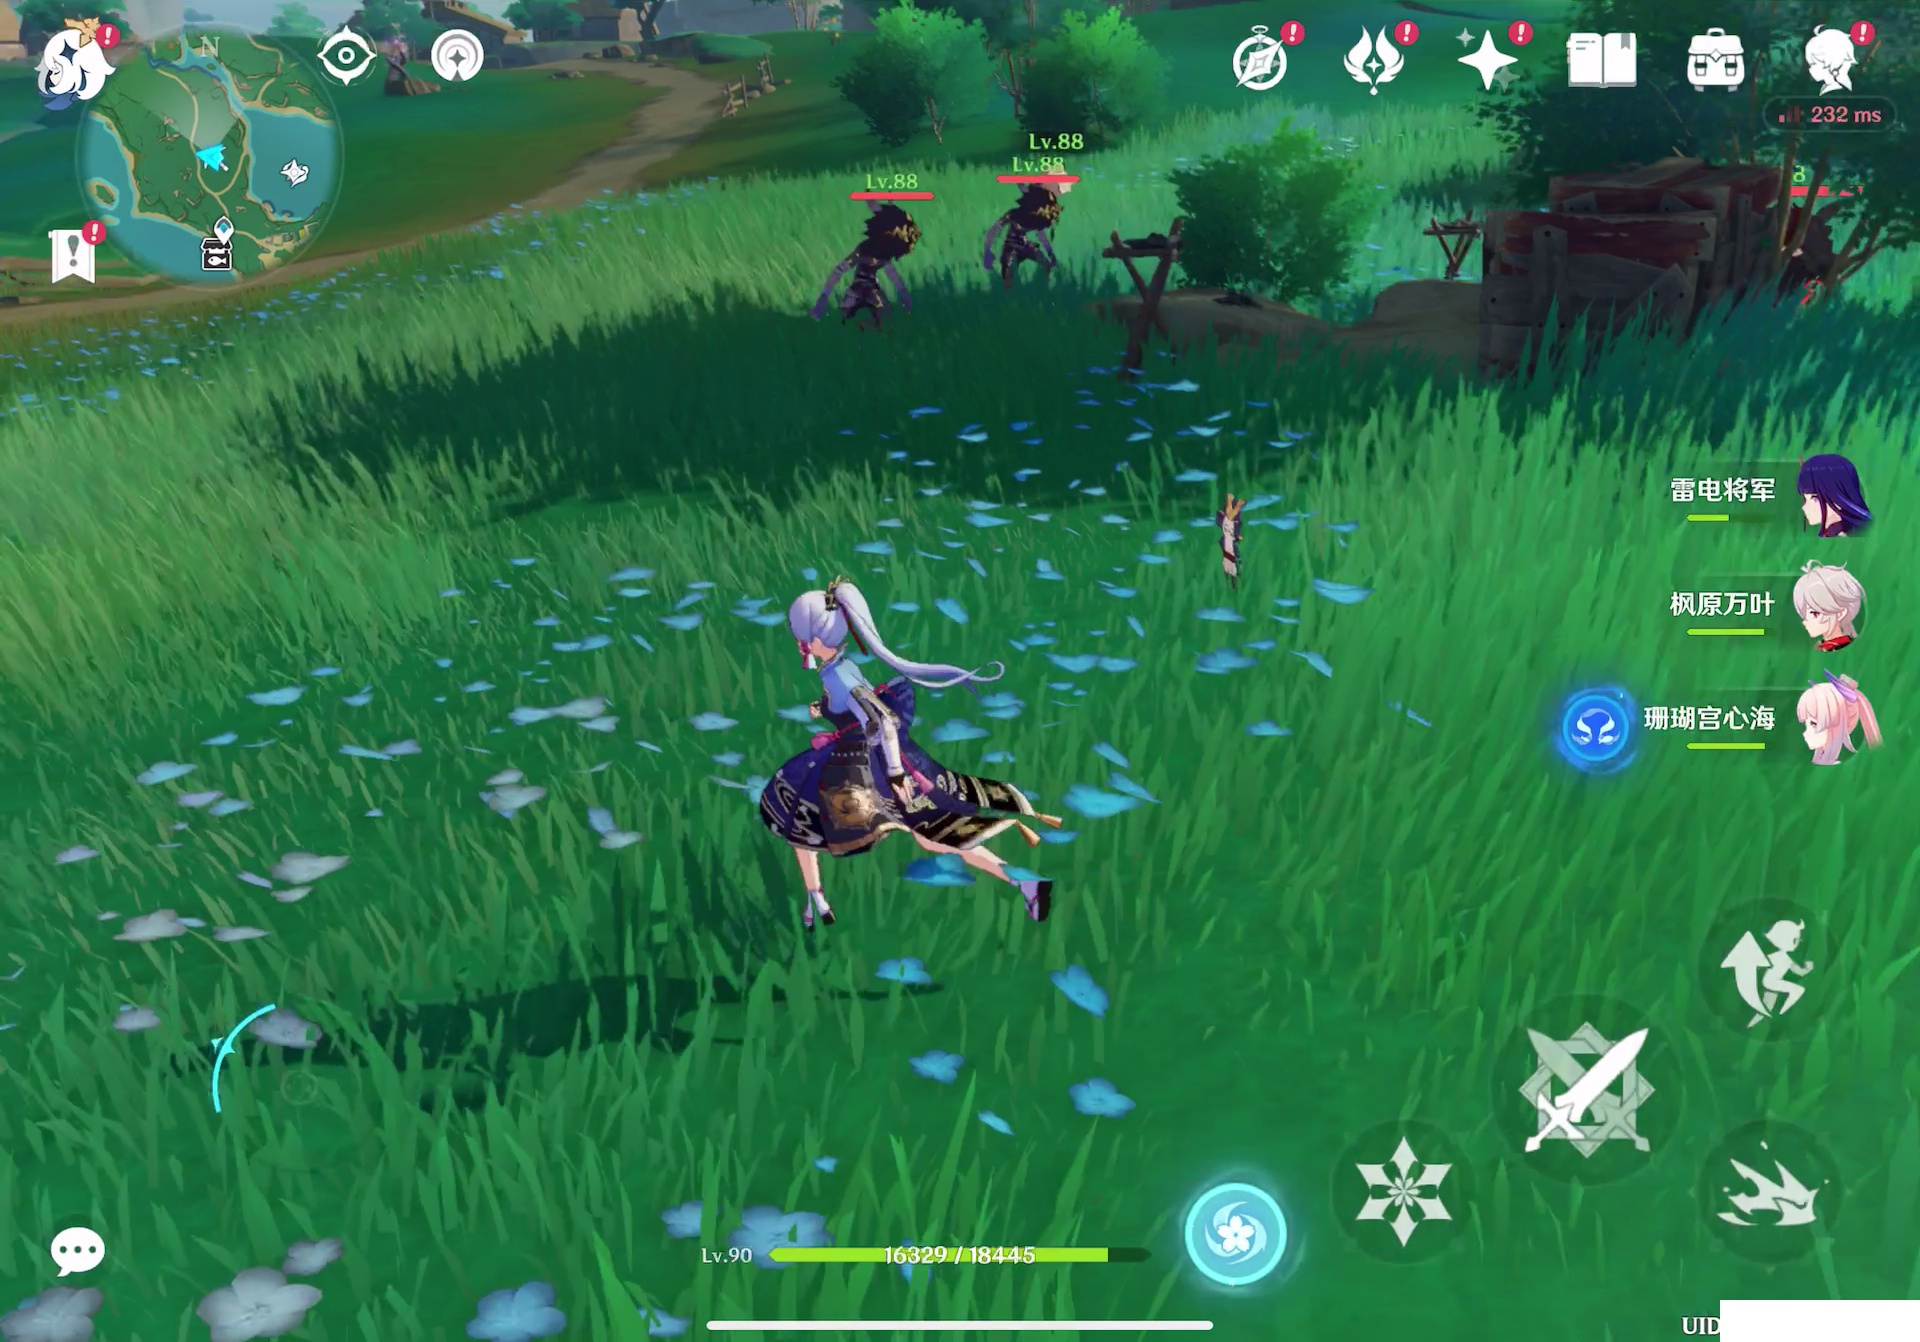丘丘人: (818, 187, 940, 341), (992, 166, 1069, 283)
神里绫龟: (746, 546, 1061, 963)
